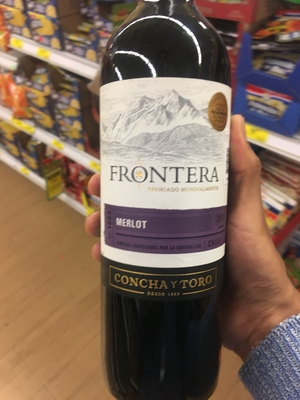frontera merlot: (92, 27, 236, 400)
